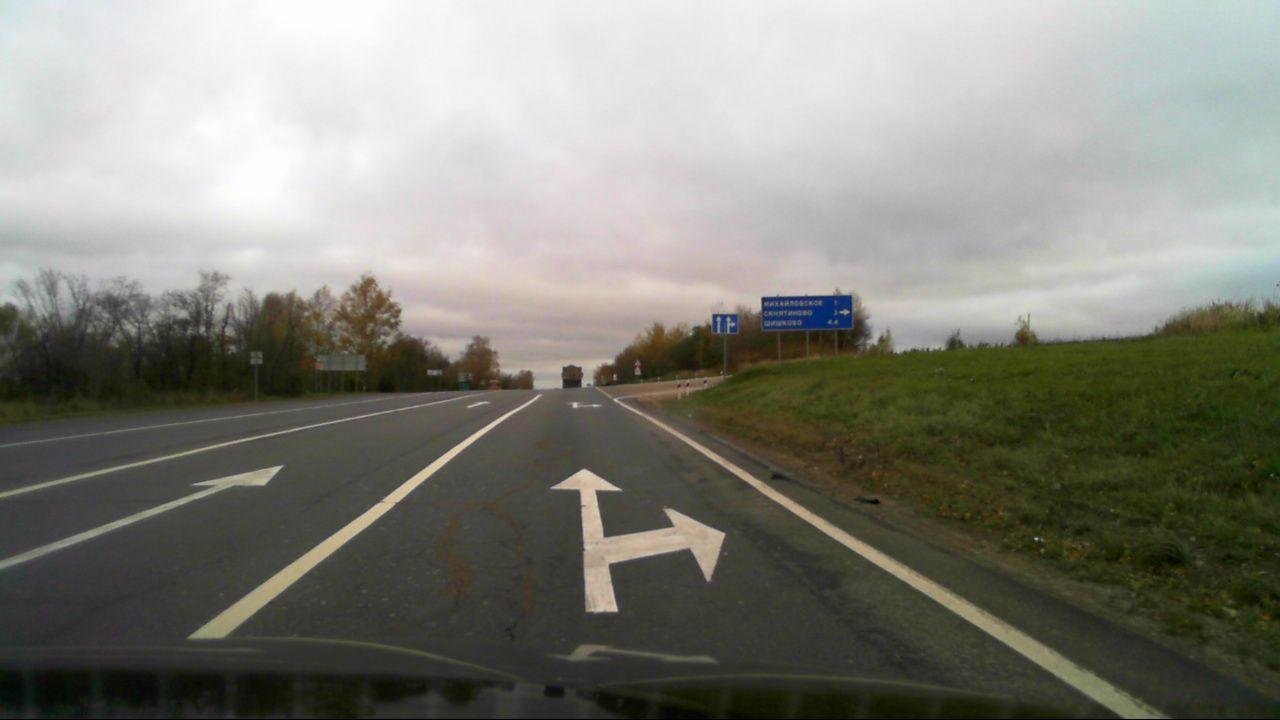5_15_1: (711, 314, 739, 334)
